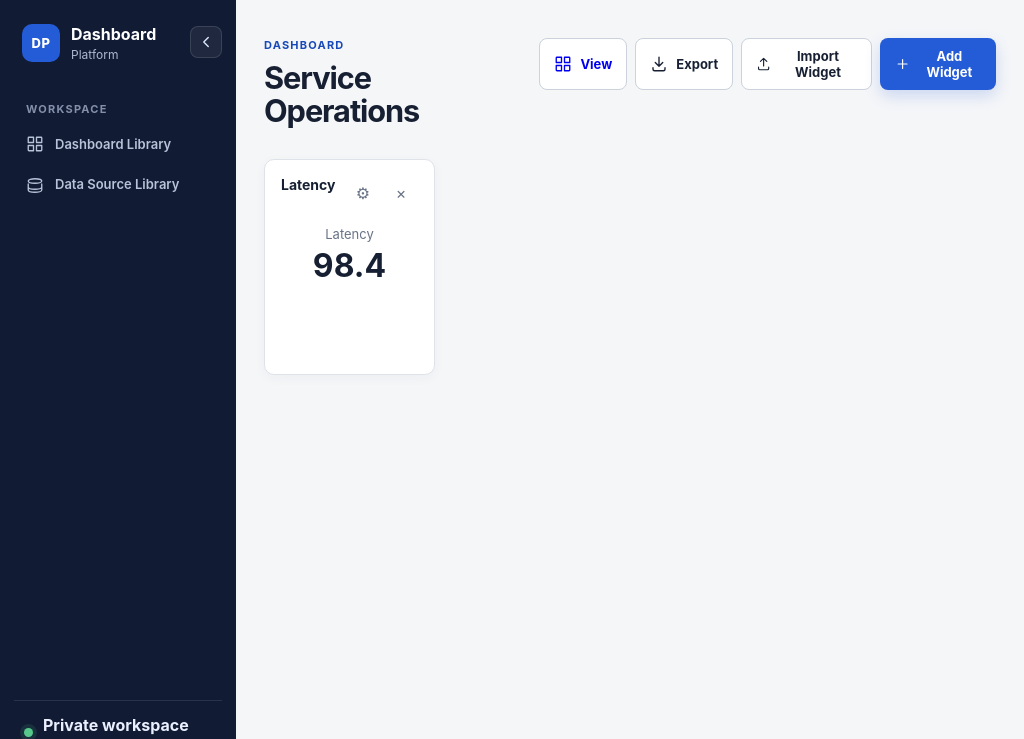
it: DashboardEditor › shows variable token examples when editing a REST widget
Click the element "Latency" at (350, 267), box top-left (264, 159), bottom-right (435, 375)
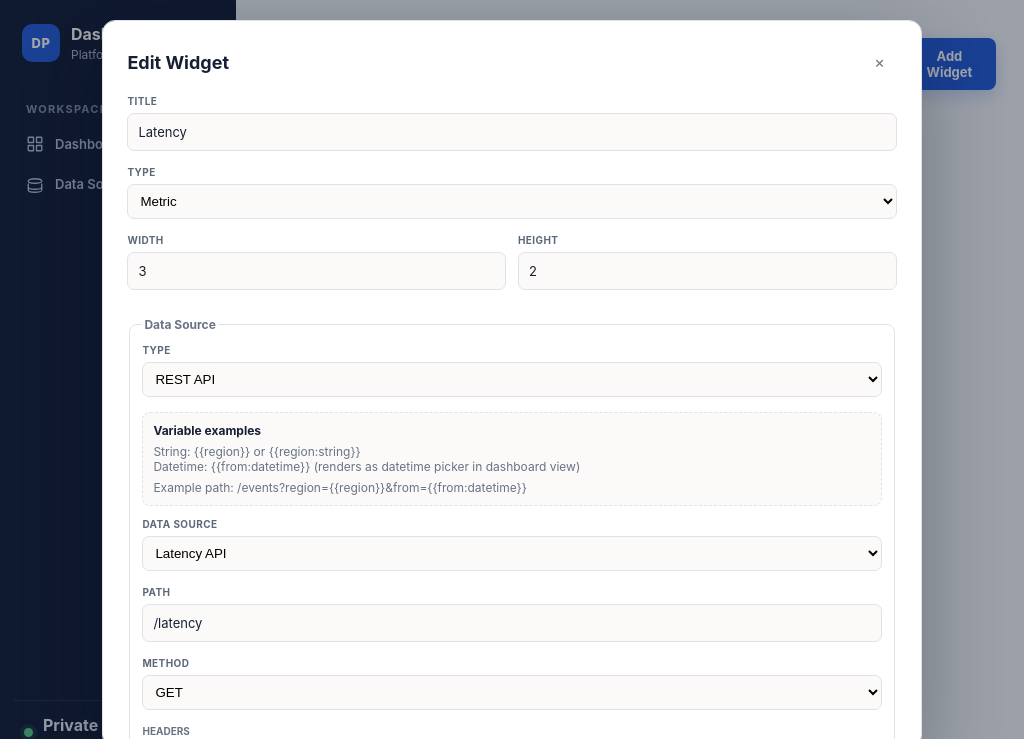
Expected: the text "Variable examples" is shown, top-left (153, 423), bottom-right (261, 438)
Expected: the text "String: {{region}} or {{region:string}}" is shown, top-left (153, 444), bottom-right (361, 459)
Expected: the text "Example path:" is shown, top-left (153, 480), bottom-right (329, 495)
